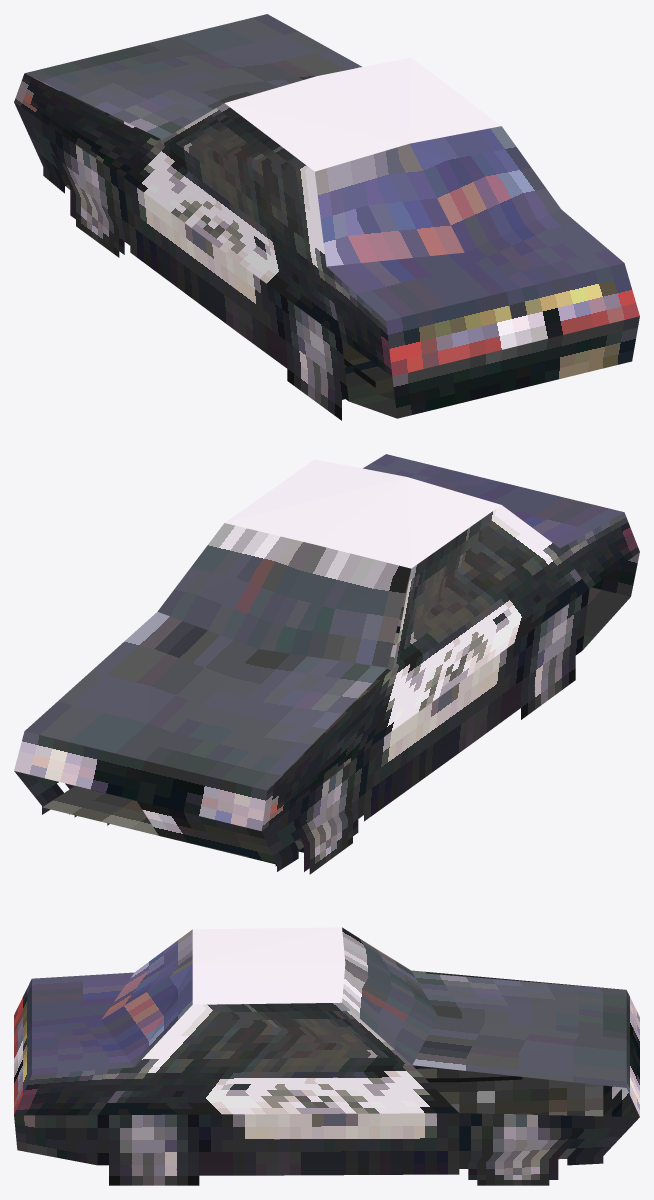
File: car-copmust-new.glb
The picture shows the model from 3 angles, top to bottom: view 1: azimuth 30°, elevation 25°; view 2: azimuth 150°, elevation 25°; view 3: azimuth 270°, elevation 25°; orthographic projection. The views are drawn at different scales.
Parts seen in each view (by area): view 1: car-copmust-new; view 2: car-copmust-new; view 3: car-copmust-new.
Boxes of the visible parts, x1,y1,x2,y2 form: car-copmust-new: [14, 14, 639, 420]; car-copmust-new: [14, 454, 639, 874]; car-copmust-new: [14, 927, 639, 1185].
Bounding box in the file's own units: 1.66 × 1.35 × 4.38.
Materials: 33 (33 with a texture image).
